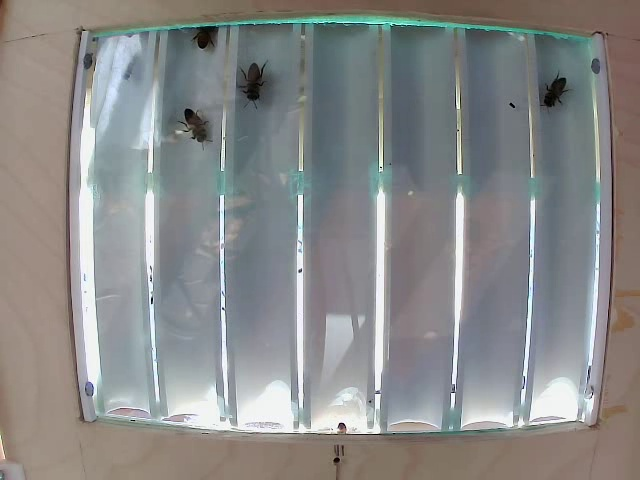bee: (179, 100, 219, 141), (542, 77, 576, 119), (251, 58, 276, 107), (188, 15, 217, 54)
